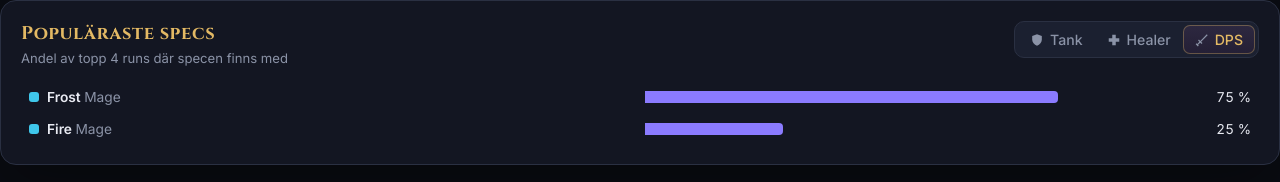
SpecChart › visar en tooltip med exakta siffror när man håller musen över en stapel
Hover over the list item "Frost Mage 75 %" at (64, 97), box [29,89,1251,105]
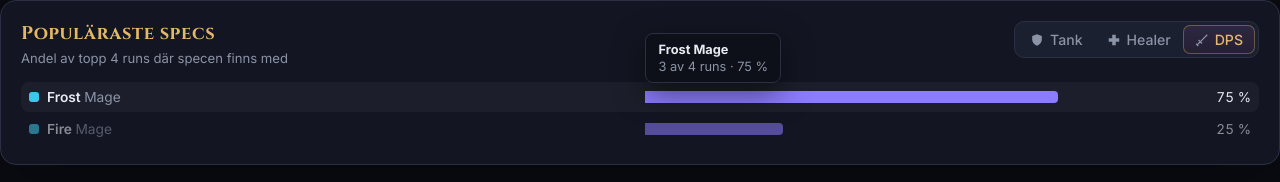
Expected: the tooltip shows "3 av 4 runs · 75 %", [646,33,781,83]
